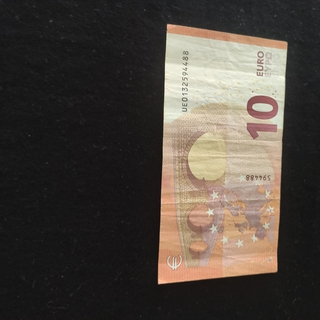10EUROBack: (155, 23, 288, 284)
